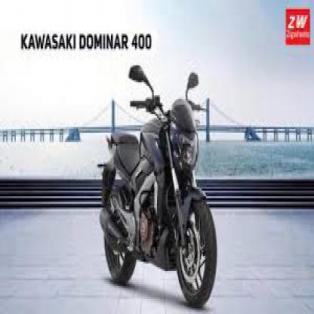Motocicleta: (100, 62, 219, 306)
